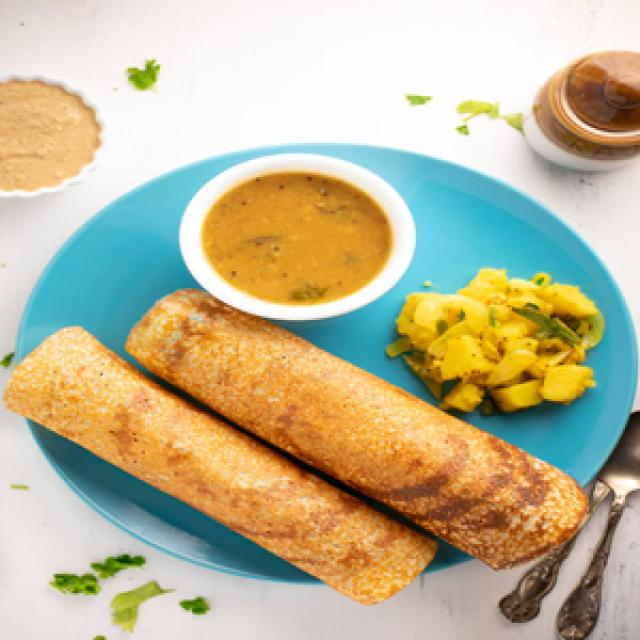dosa: (132, 274, 605, 581), (0, 318, 446, 612)
